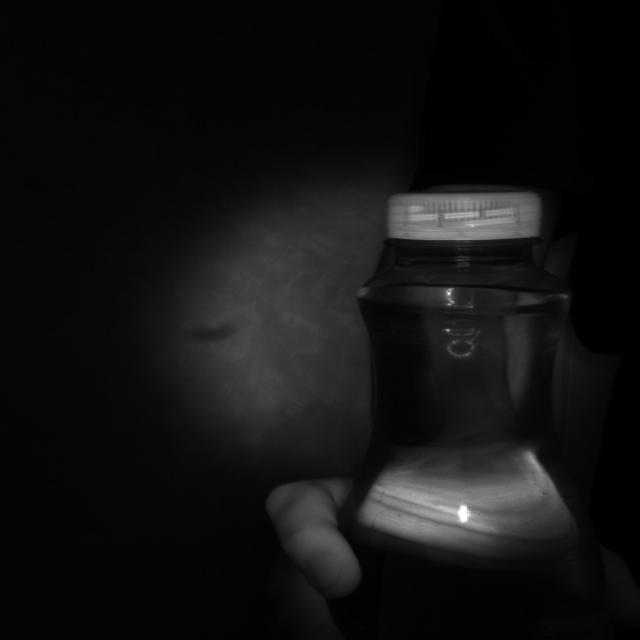Good: (386, 182, 546, 244)
